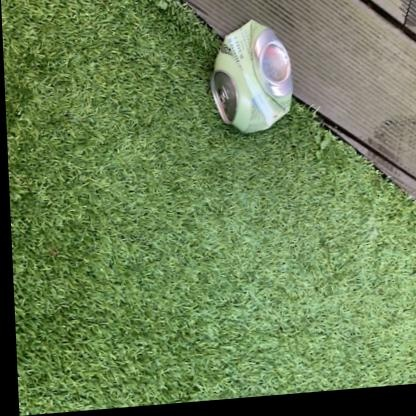trash: (211, 20, 292, 132)
